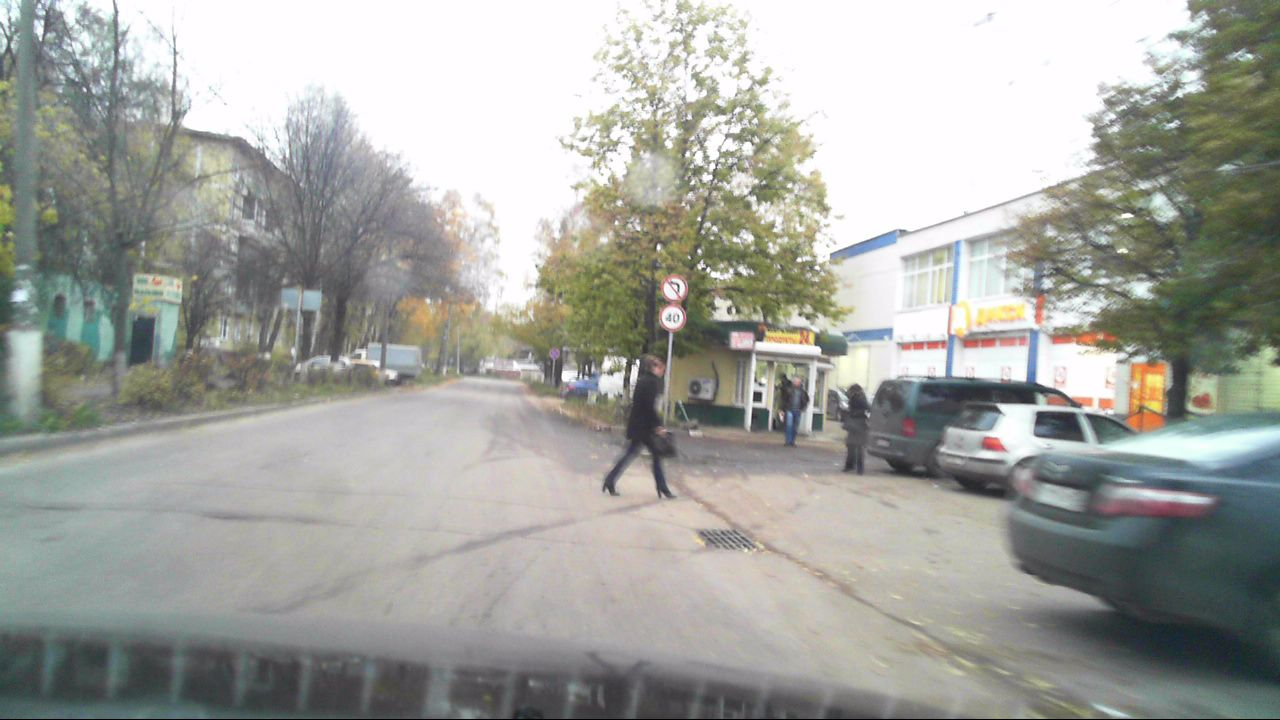speed_warning_40: (659, 304, 687, 332)
